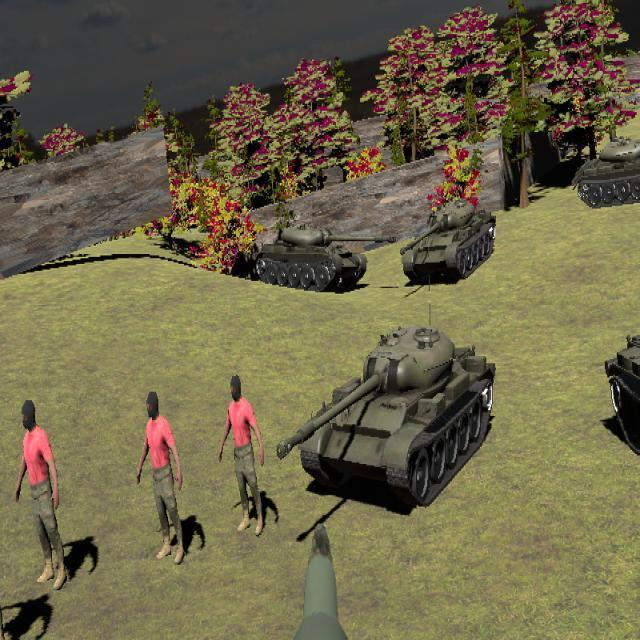Human: (15, 399, 70, 590), (136, 391, 189, 565), (218, 373, 267, 536)
Tank: (275, 325, 496, 508), (250, 222, 398, 295), (400, 196, 496, 284), (605, 286, 640, 472), (572, 138, 640, 210)
